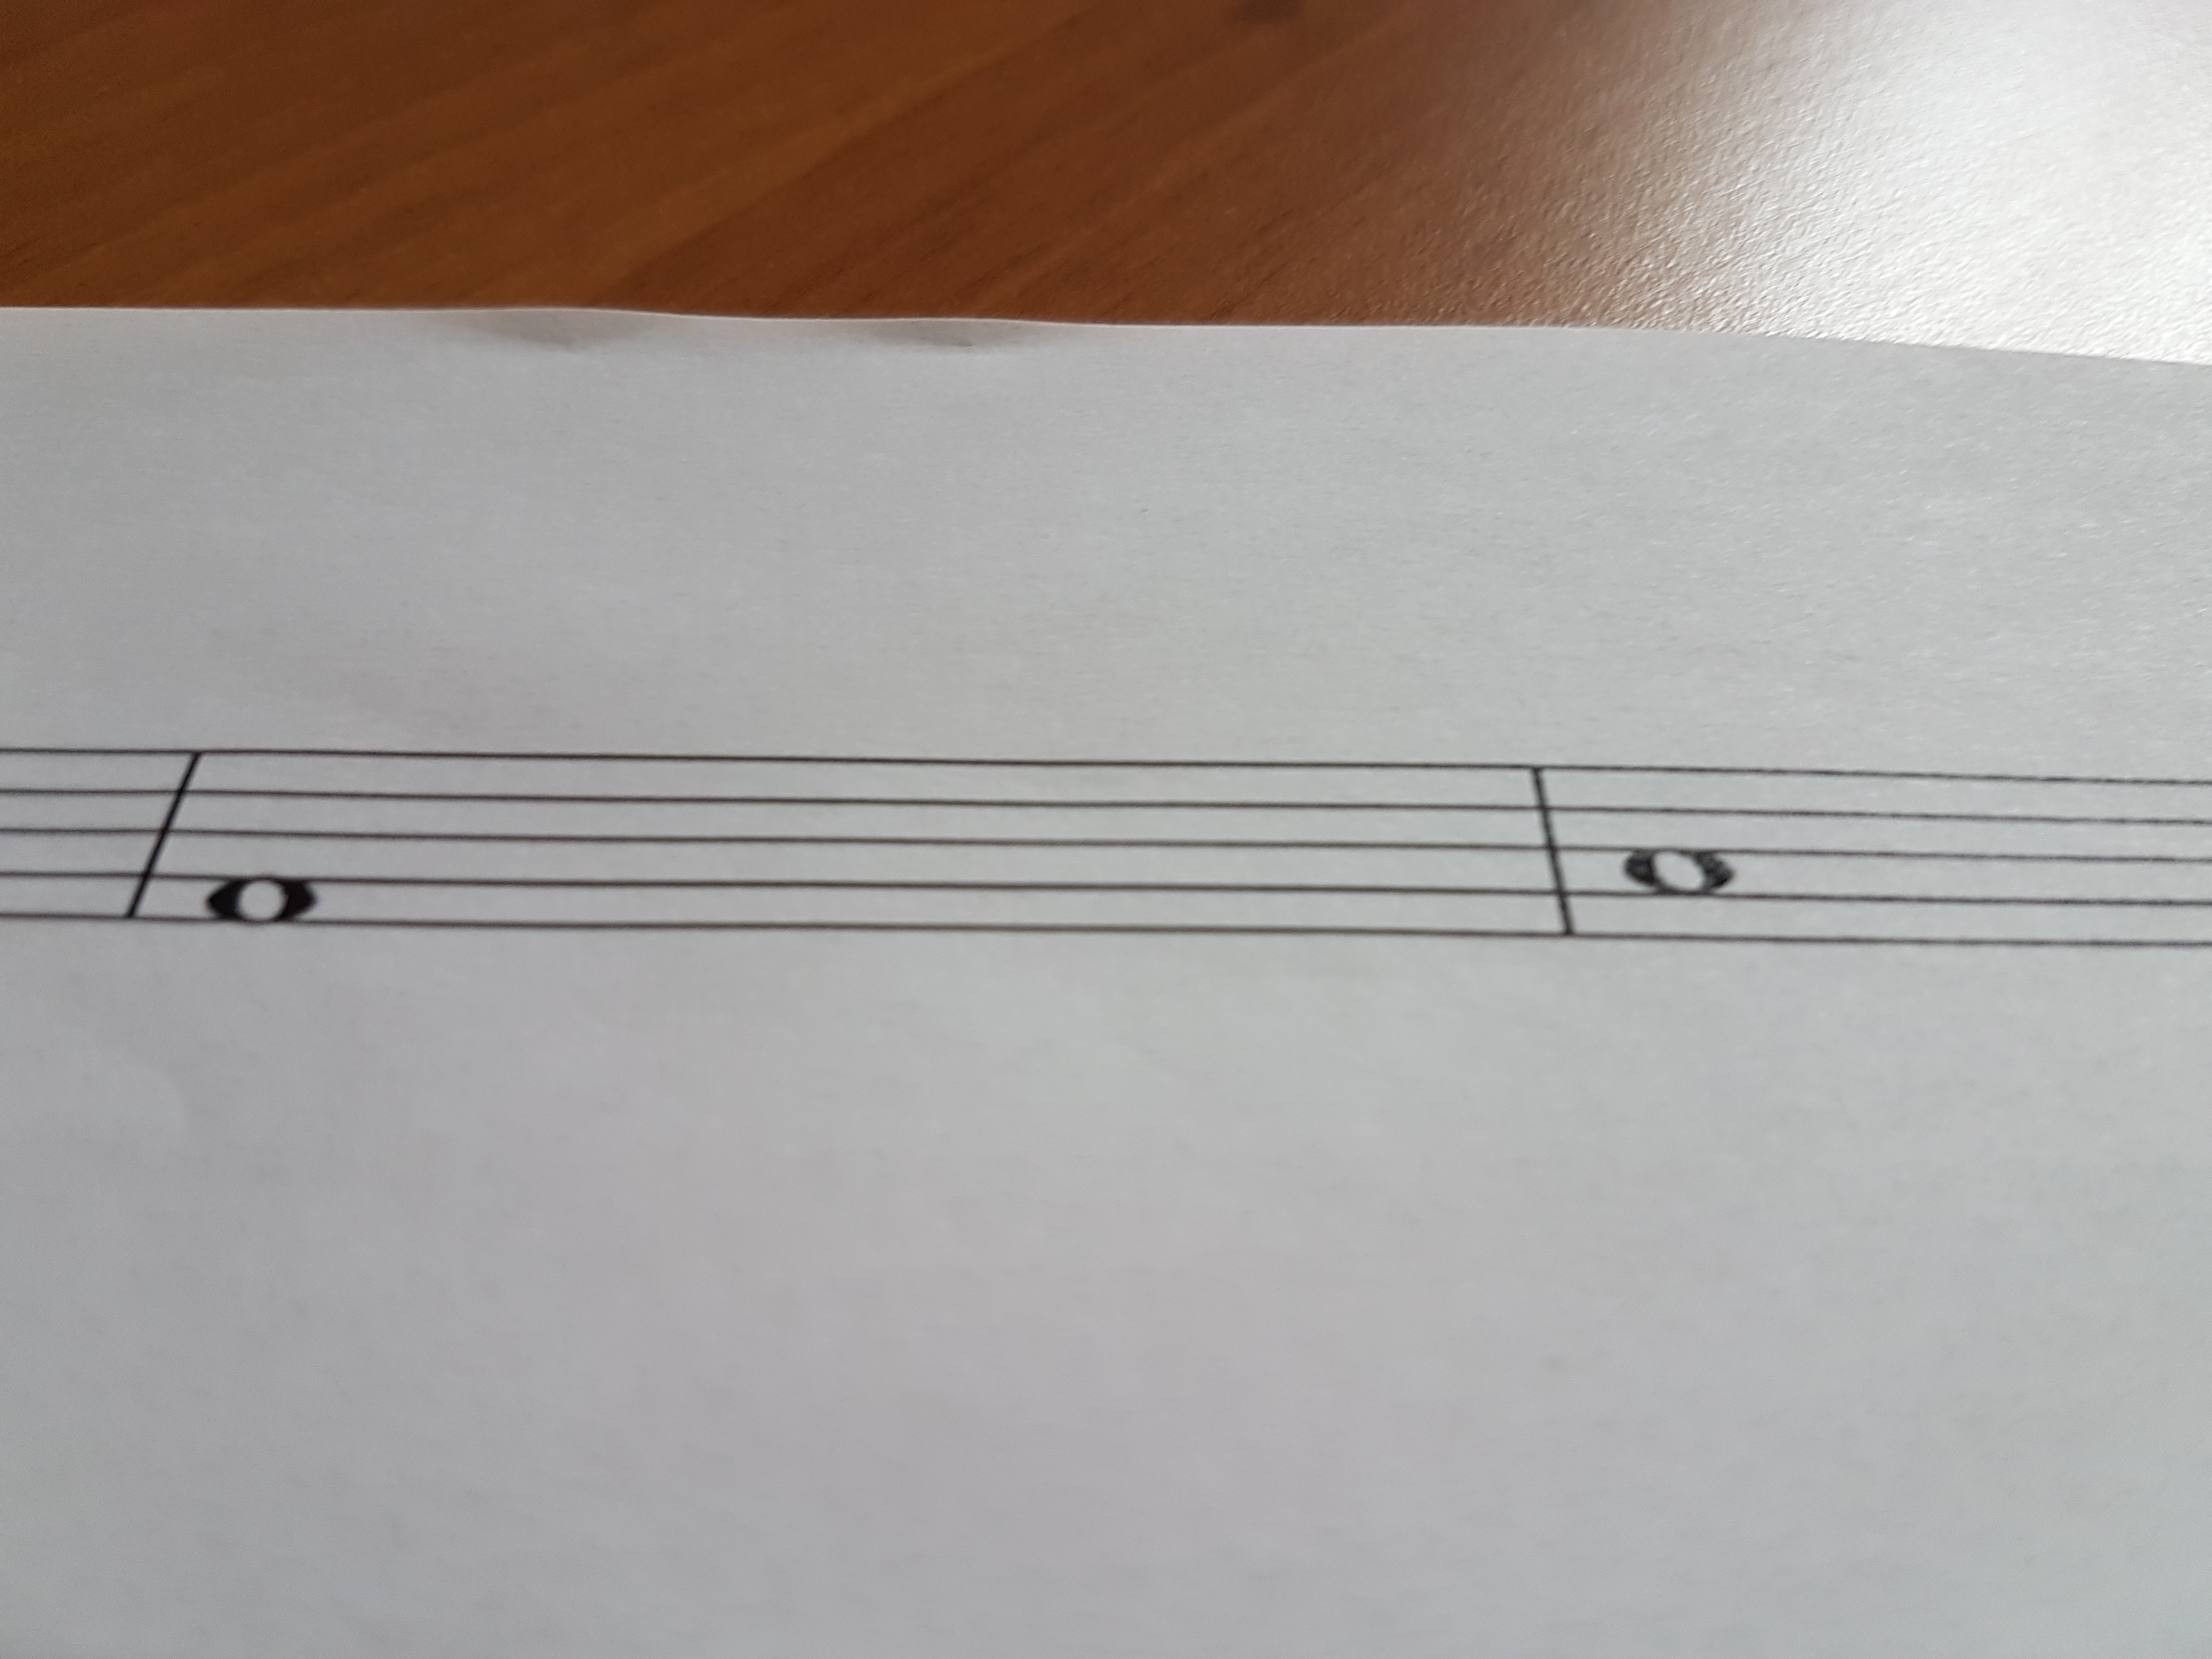pipe: (115, 728, 207, 962), (1519, 746, 1592, 969)
semibreve_a: (1609, 730, 1743, 986)
semibreve_f: (204, 714, 320, 983)
